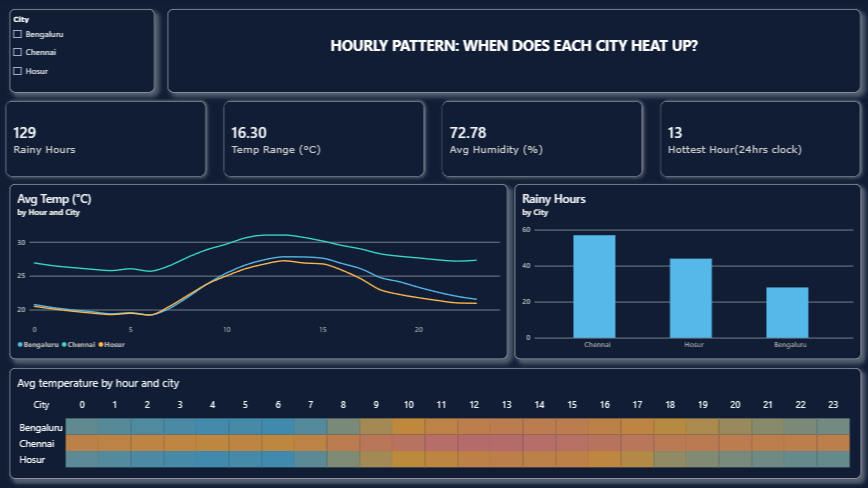

What the dashboard file says about the page in this screenshot:
{"tool":"powerbi","page":{"name":"Hourly Overview","canvas":[1920,1080],"ordinal":1},"visuals":[{"type":"slicer","fields":{"Values":["Dim_City.City"]},"box":[26.7,0,320,151.1],"z":0},{"type":"cardVisual","fields":{"Data":["Fact_Weather.Rainy Hours","Fact_Weather.Temp Range (°C)","Fact_Weather.Avg Humidity (%)","Fact_Weather.Hottest Hour"]},"box":[0,151.1,1920,202.2],"z":1000},{"type":"lineChart","fields":{"Category":["Fact_Weather.Hour"],"Series":["Dim_City.City"],"Y":["Fact_Weather.Avg Temp (°C)"]},"box":[26.7,353.3,1097.8,362.2],"z":2000},{"type":"clusteredColumnChart","fields":{"Category":["Dim_City.City"],"Y":["Fact_Weather.Rainy Hours"]},"box":[1137.8,353.3,746.7,362.2],"z":3000},{"type":"textbox","title":"Weather overview: Hosur, Chennai, Bengaluru","box":[373.3,0,1528.9,151.1],"z":4000},{"type":"pivotTable","fields":{"Columns":["Fact_Weather.Hour"],"Rows":["Dim_City.City"],"Values":["Fact_Weather.Avg Temp (°C)"]},"box":[44.4,717.8,1840,362.2],"z":5000}]}

Visuals, with their boxes in screenshot pixels (x1, y1, x2, y2), scaled from the page's 1920x1080 canvas onto the 868x488 screenshot:
slicer - Dim_City.City: (12, 0, 157, 68)
cardVisual - Fact_Weather.Rainy Hours x Fact_Weather.Temp Range (°C): (0, 68, 867, 160)
lineChart - Fact_Weather.Hour x Dim_City.City: (12, 160, 508, 323)
clusteredColumnChart - Dim_City.City x Fact_Weather.Rainy Hours: (514, 160, 852, 323)
"Weather overview: Hosur, Chennai, Bengaluru" textbox: (169, 0, 860, 68)
pivotTable - Fact_Weather.Hour x Dim_City.City: (20, 324, 852, 487)
